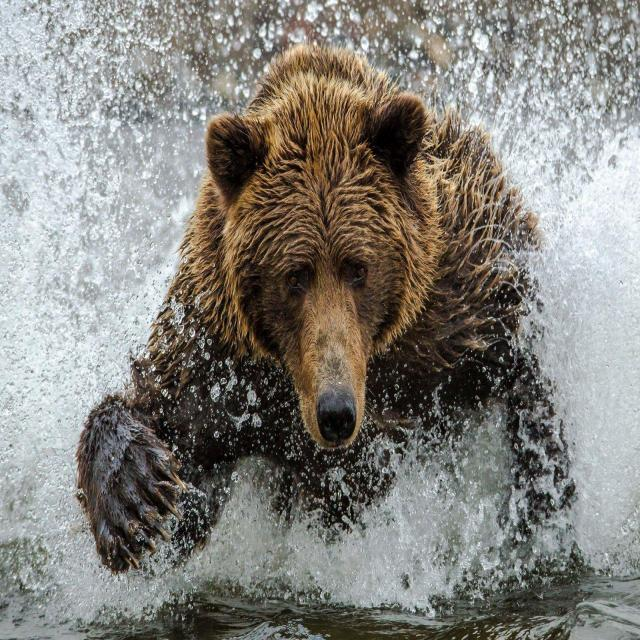Bear: (76, 44, 575, 575)
